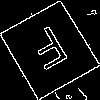F: (24, 24, 76, 79)
